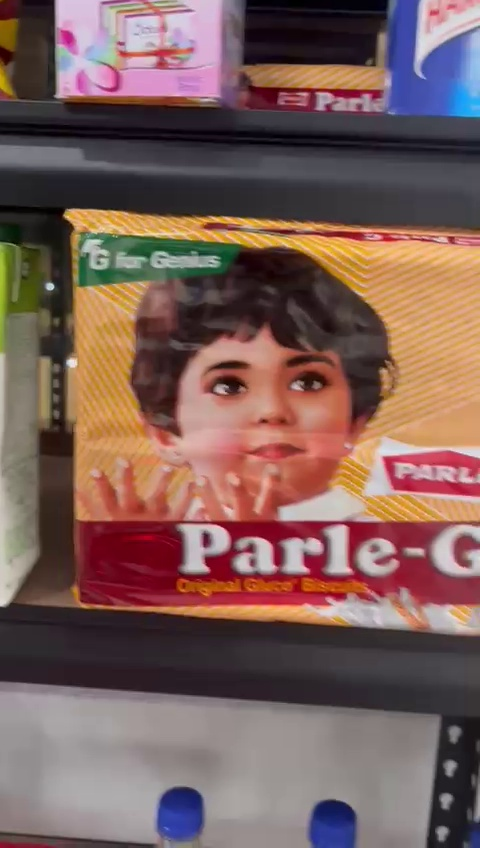Parle-G: (62, 210, 480, 628)
